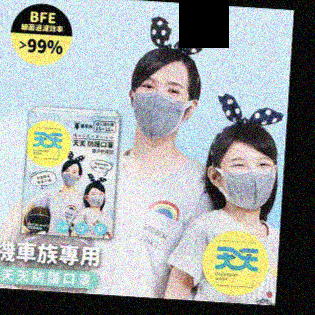with_mask: (131, 75, 189, 140), (220, 154, 276, 211)
